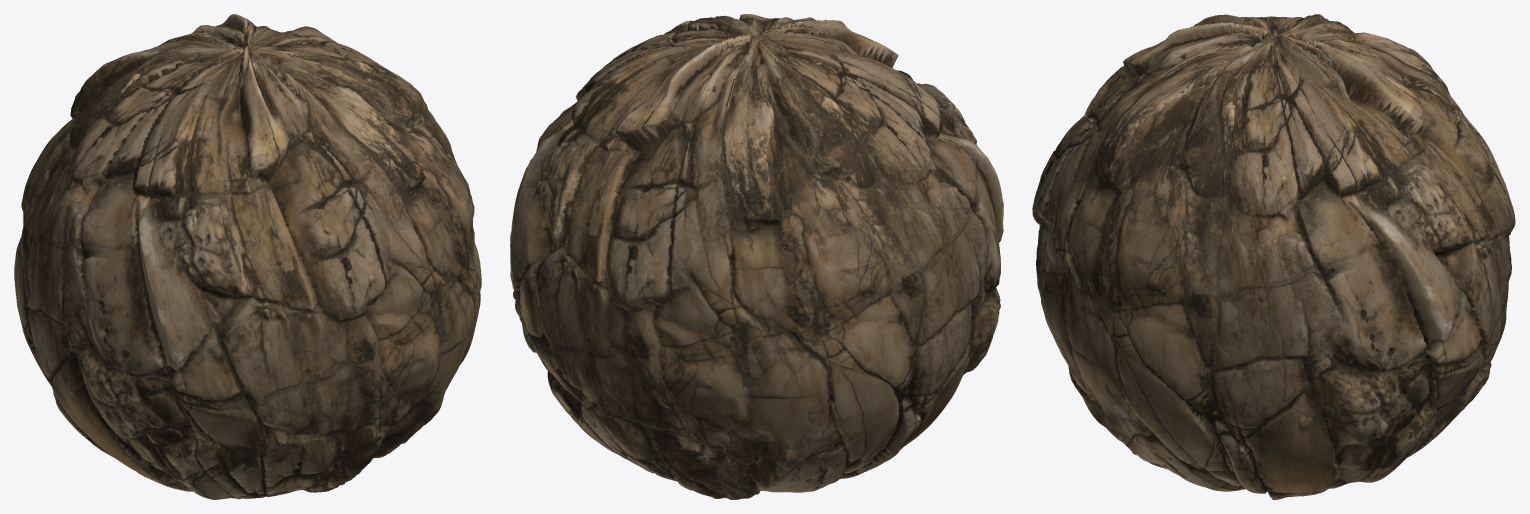
The model's file is marble_rock_03_1k.gltf.
The picture shows the model from 3 angles, left to right: view 1: azimuth 30°, elevation 25°; view 2: azimuth 150°, elevation 25°; view 3: azimuth 270°, elevation 25°; orthographic projection.
Parts seen in each view (by area): view 1: sphere_gltf; view 2: sphere_gltf; view 3: sphere_gltf.
Part boxes in pixels (bbox=[...]): sphere_gltf: bbox=[14, 14, 481, 499]; sphere_gltf: bbox=[510, 14, 1003, 499]; sphere_gltf: bbox=[1032, 14, 1515, 499].
Size of the model in its own units: 1.79 by 1.86 by 1.8.
1 material, 1 textured.
